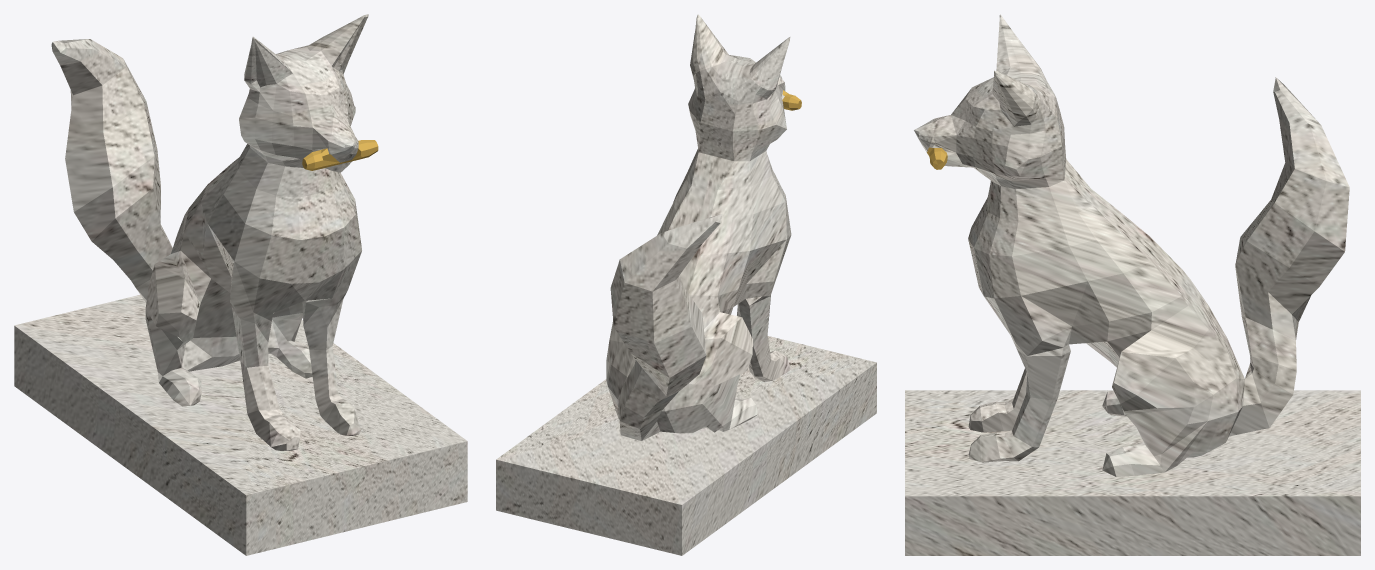
Rendered from 3D_FOX.glb.
The picture shows the model from 3 angles, left to right: view 1: azimuth 30°, elevation 25°; view 2: azimuth 150°, elevation 25°; view 3: azimuth 270°, elevation 25°; orthographic projection. The views are drawn at different scales.
Visible parts, largest first — view 1: Cube; view 2: Cube; view 3: Cube.
Boxes of the visible parts, x1,y1,x2,y2 form: Cube: [14, 14, 467, 555]; Cube: [496, 14, 876, 555]; Cube: [905, 14, 1360, 555].
Bounding box in the file's own units: 0.7285 × 1.45 × 1.29.
2 materials, 1 textured.
